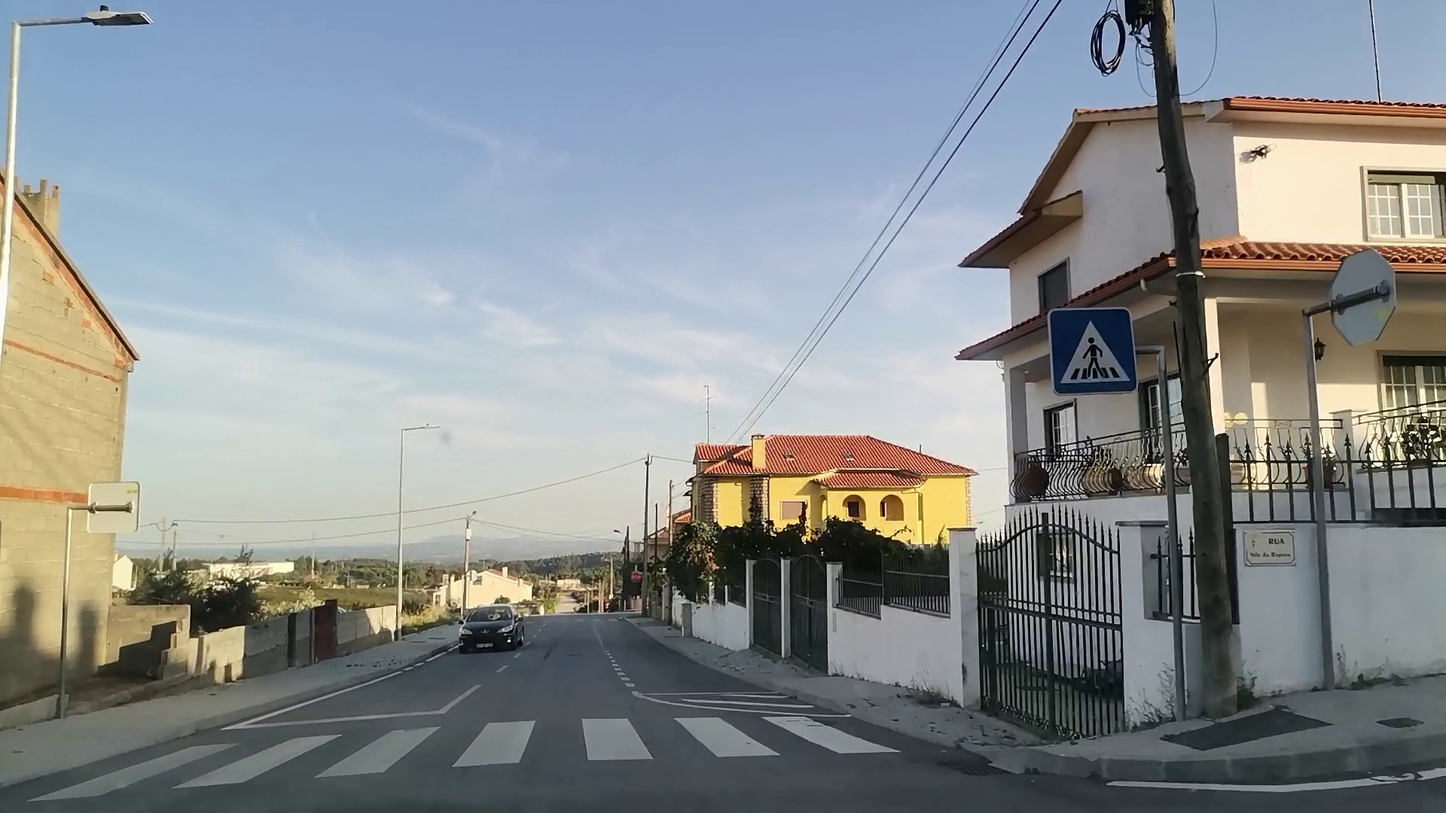Stairs: (23, 714, 901, 802)
